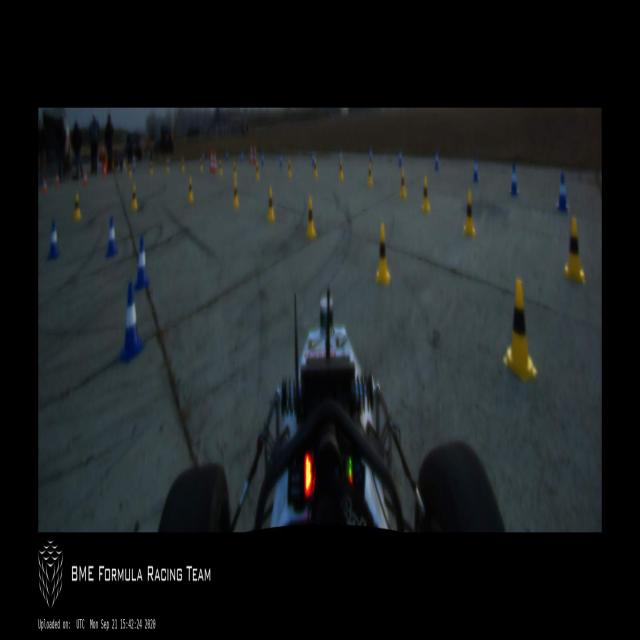blue_cone: (117, 283, 143, 361), (135, 235, 150, 288), (48, 218, 61, 258), (556, 172, 569, 212), (106, 216, 118, 256), (509, 162, 519, 196), (472, 157, 479, 183), (398, 148, 403, 168), (435, 151, 439, 169), (279, 153, 283, 167), (369, 147, 373, 160), (261, 151, 264, 164), (312, 153, 315, 165), (202, 152, 205, 162), (132, 161, 135, 171), (241, 150, 243, 162), (340, 149, 342, 160), (226, 150, 228, 160)
large_orange_cone: (209, 149, 213, 174), (213, 151, 217, 175), (249, 144, 253, 165), (253, 145, 257, 166)
orange_cone: (43, 172, 47, 194), (55, 169, 60, 186), (84, 171, 87, 185)
yellow_cone: (503, 278, 538, 381), (564, 217, 584, 281), (375, 223, 391, 284), (464, 191, 476, 237), (306, 198, 316, 239), (267, 188, 275, 222), (422, 177, 430, 211), (73, 190, 81, 222), (130, 183, 138, 211), (400, 169, 406, 197), (233, 181, 239, 208), (367, 162, 373, 186), (188, 177, 194, 201), (287, 158, 292, 180), (339, 158, 344, 179), (232, 160, 237, 178), (314, 158, 318, 178), (255, 162, 259, 180), (165, 158, 170, 172), (149, 159, 153, 176), (218, 159, 222, 176), (128, 163, 132, 179), (180, 157, 184, 172), (199, 158, 203, 173), (112, 162, 115, 176), (78, 163, 80, 179)
